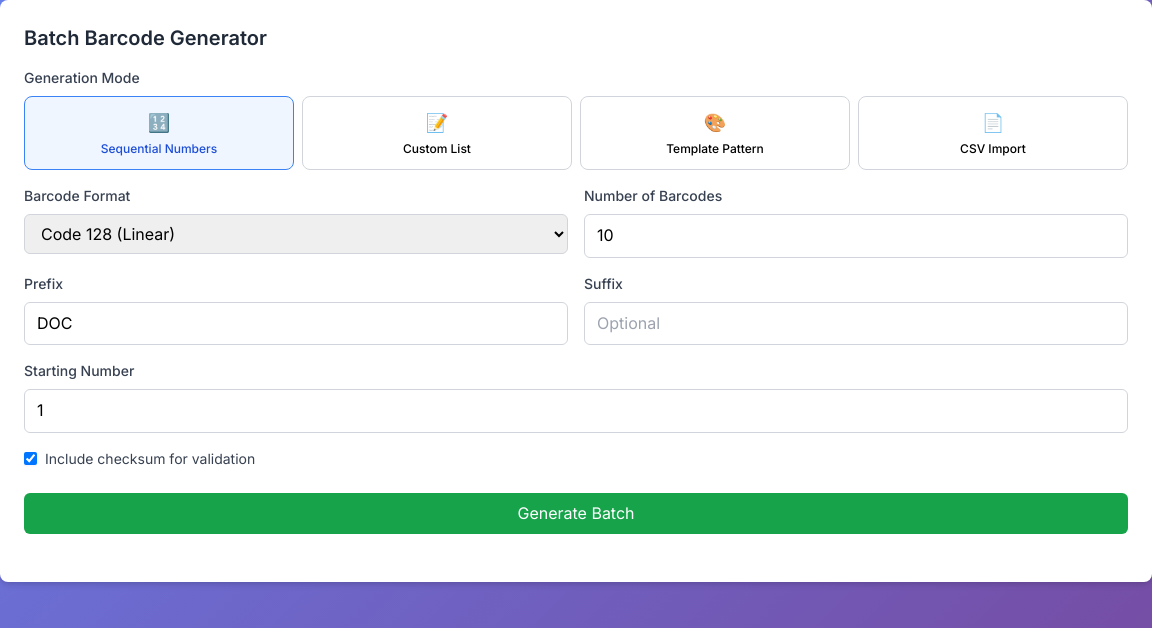
Test case: BatchGenerator › exports to CSV correctly
# Generate batch first
Replace the text in the number field labelled "Number of Barcodes" with "1": (856, 236) [584,214,1128,258]
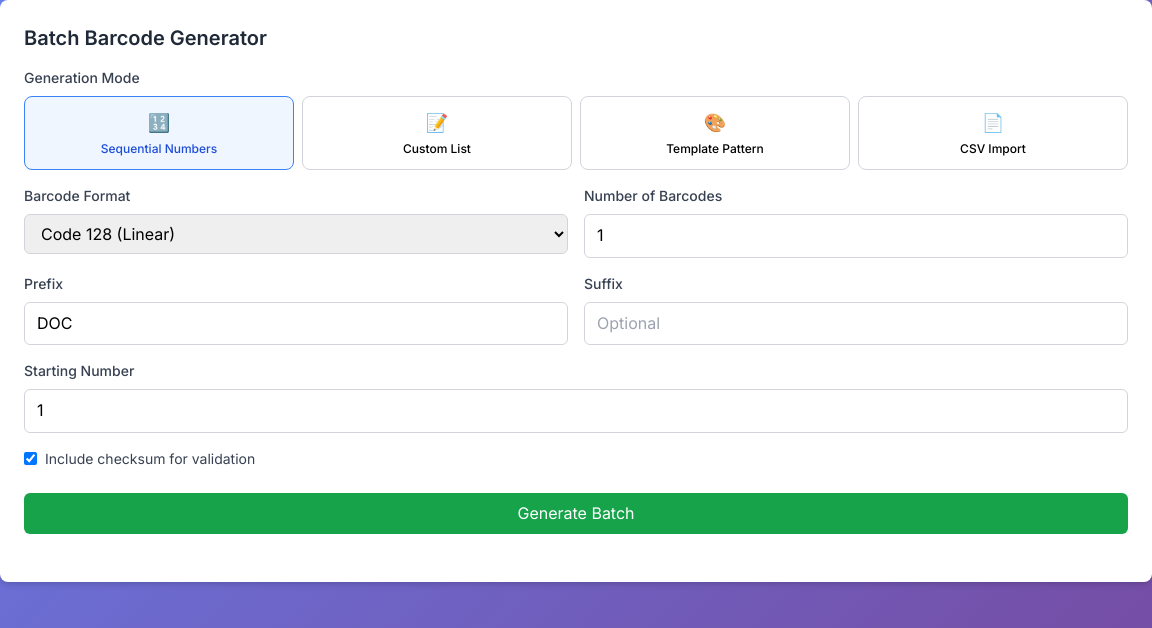
Click the button "Generate Batch": (576, 514) [24,493,1128,534]
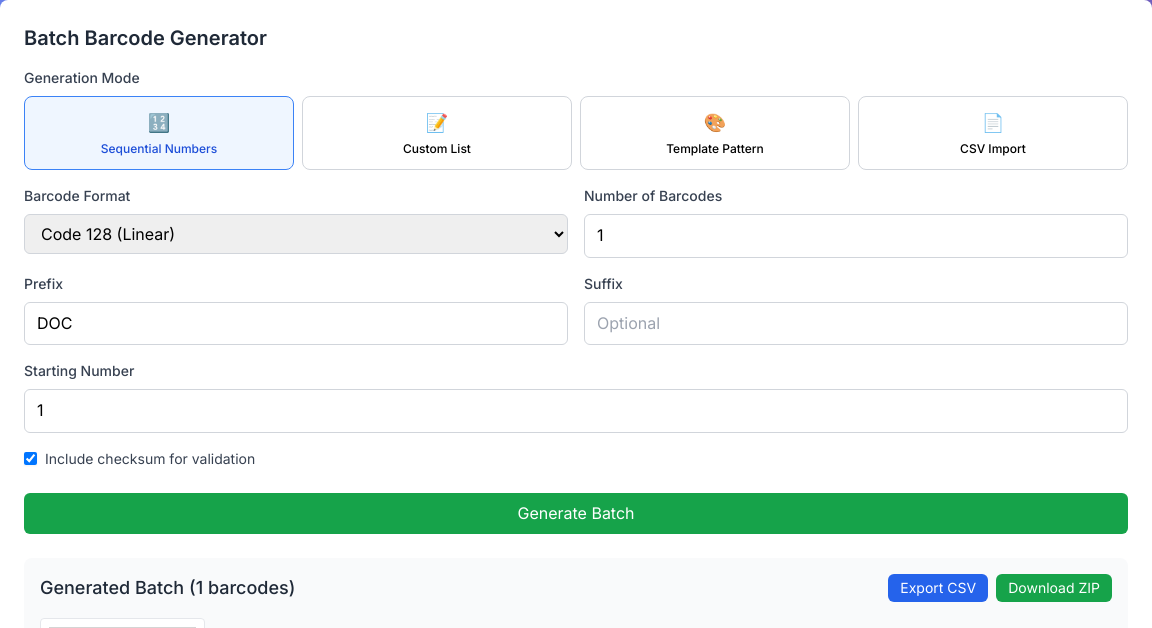
Now the button "Export CSV" is shown, box [888,574,988,602]
